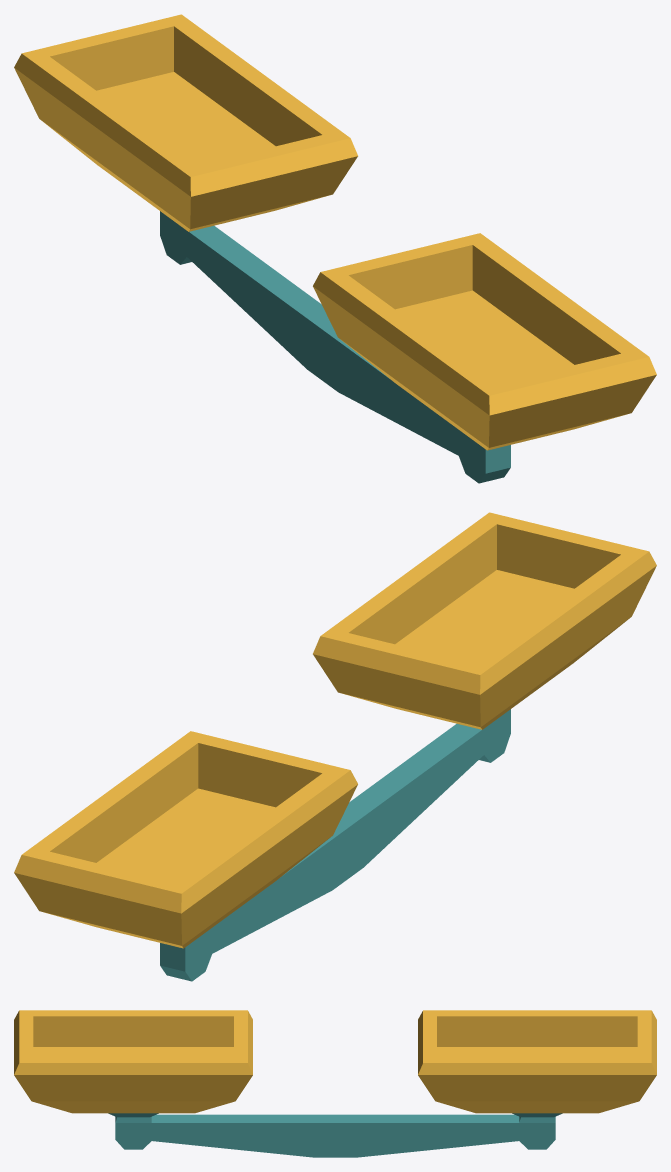
Rendered from Brazo.fbx.
3 views of the same model, one above another, from view 1: azimuth 30°, elevation 25°; view 2: azimuth 150°, elevation 25°; view 3: azimuth 270°, elevation 25° (orthographic). The views are drawn at different scales.
Parts seen in each view (by area): view 1: Cube; view 2: Cube; view 3: Cube.
Boxes of the visible parts, x1,y1,x2,y2 form: Cube: (14, 14, 656, 483); Cube: (14, 512, 656, 981); Cube: (14, 1010, 656, 1157).
Size of the model in its own units: 43.52 by 42.94 by 214.
